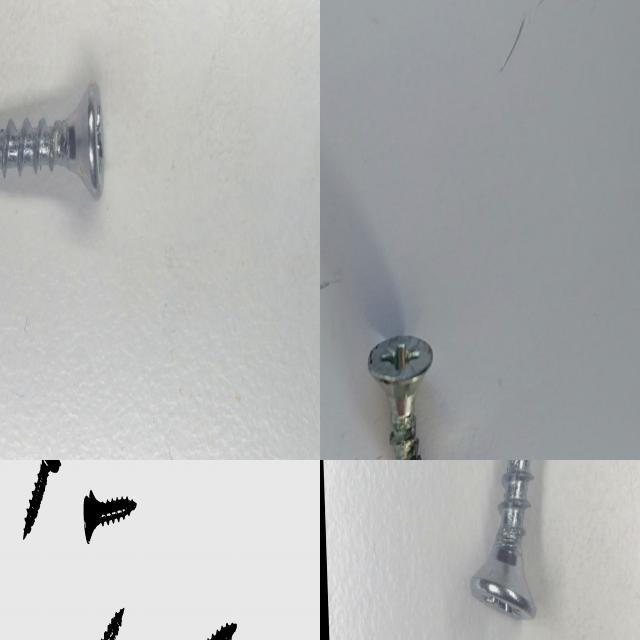Screw: (0, 82, 104, 198), (471, 460, 536, 618), (368, 335, 433, 460), (22, 460, 60, 537), (83, 488, 136, 542), (100, 607, 124, 640), (207, 622, 237, 640)
